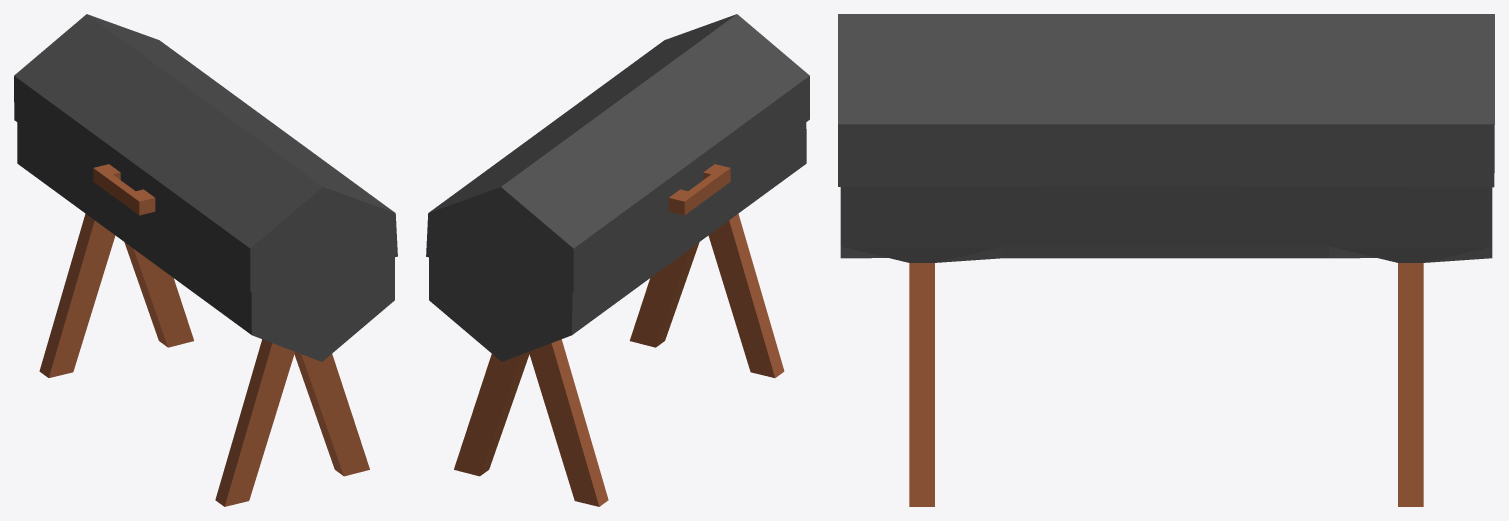
File: Grill_Big_Closed.fbx
3 renders of one model, left to right at view 1: azimuth 30°, elevation 25°; view 2: azimuth 150°, elevation 25°; view 3: azimuth 270°, elevation 25°, orthographic. The views are drawn at different scales.
Parts seen in each view (by area): view 1: big grill; view 2: big grill; view 3: big grill.
Part boxes in pixels (<box>): big grill: <box>14,14,397,506</box>; big grill: <box>426,14,809,506</box>; big grill: <box>838,14,1494,506</box>.
Bounding box in the file's own units: 961 × 1802 × 2404.
